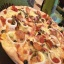olives: (29, 38, 38, 48), (35, 28, 42, 38), (1, 29, 9, 37), (57, 28, 64, 36), (48, 24, 55, 31), (21, 58, 29, 64)
pizza: (1, 6, 64, 64)
